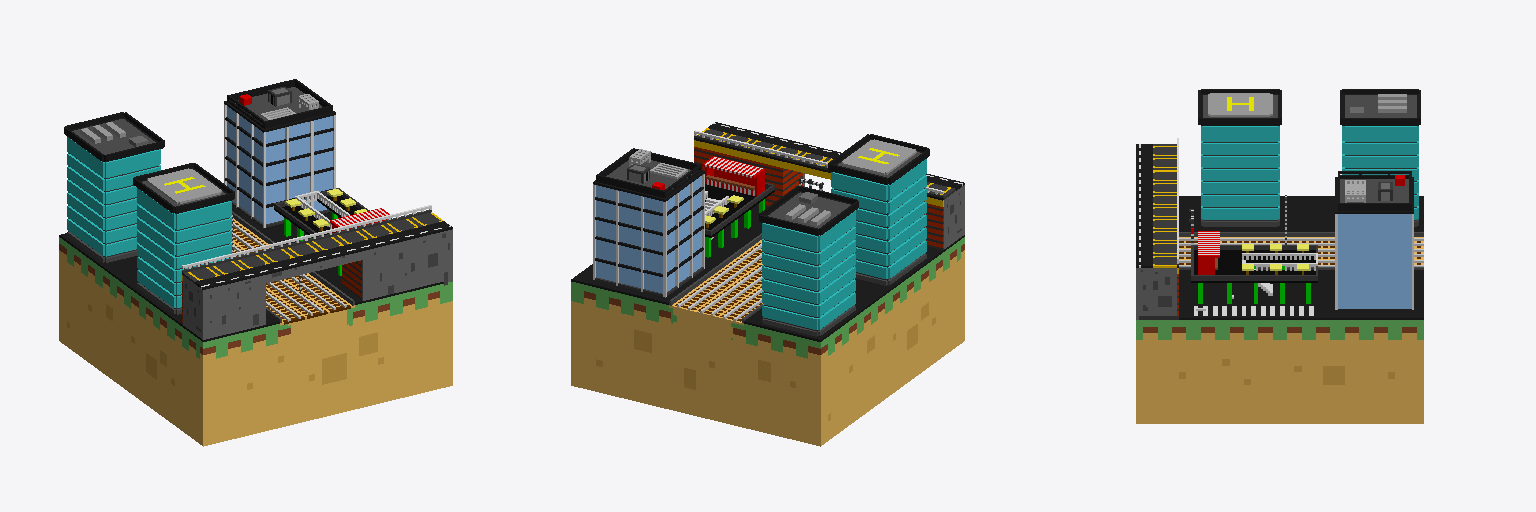
3 renders of one model, left to right at view 1: azimuth 30°, elevation 25°; view 2: azimuth 150°, elevation 25°; view 3: azimuth 270°, elevation 25°, orthographic.
Parts seen in each view (by area): view 1: object 1; view 2: object 1; view 3: object 1.
Boxes of the visible parts, box(x1,y1,x2,y2) form: object 1: box(59, 79, 452, 446); object 1: box(571, 122, 964, 446); object 1: box(1136, 89, 1423, 423).
Bounding box in the file's own units: 12 × 9.9 × 12.
Materials: 1 (1 with a texture image).